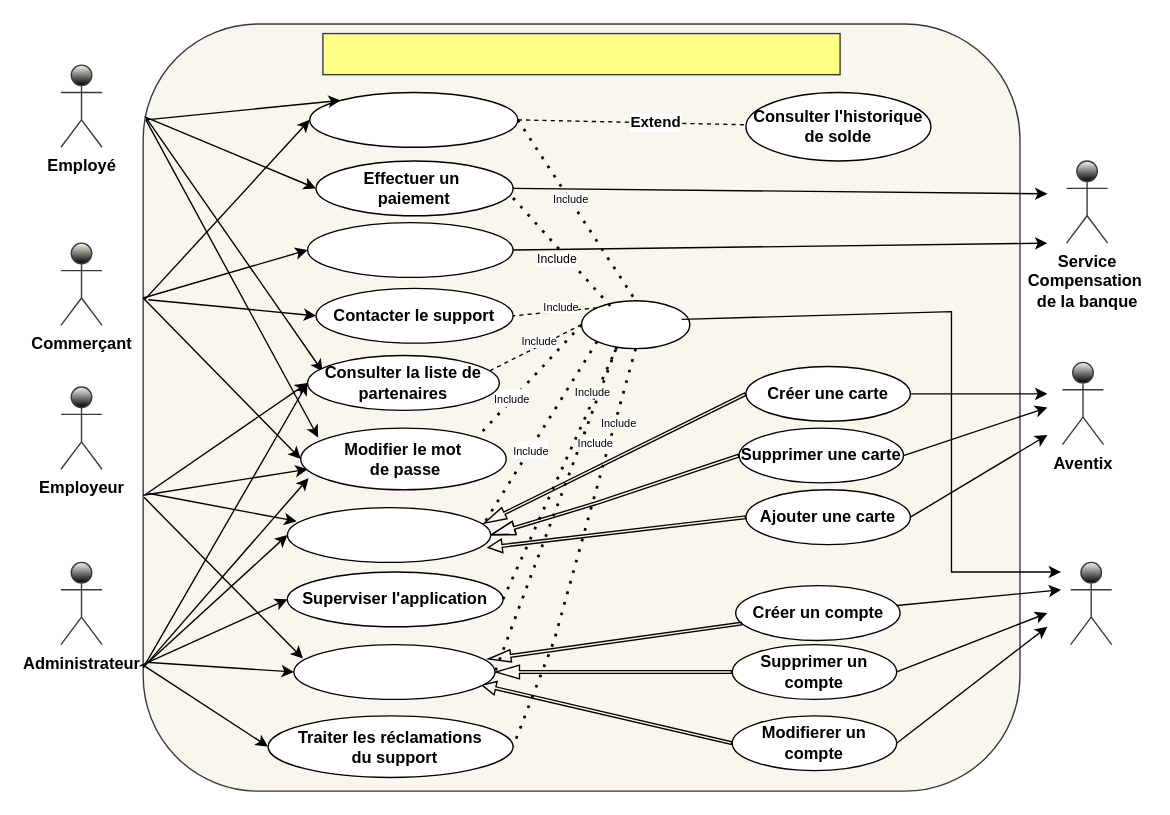
Some shapes in this 1170 by 815 pixel diagram are drawn without their labels. Each missing label, with the centre of its shape:
Consulter le solde: [413,119]
Gérer le compte: [393,671]
Gérer les cartes: [388,534]
ID Provider: [1090,603]
Recevoir un paiement: [409,249]
S'authentifier: [635,324]
Système de gestion carte restaurant Aventix: [581,53]
